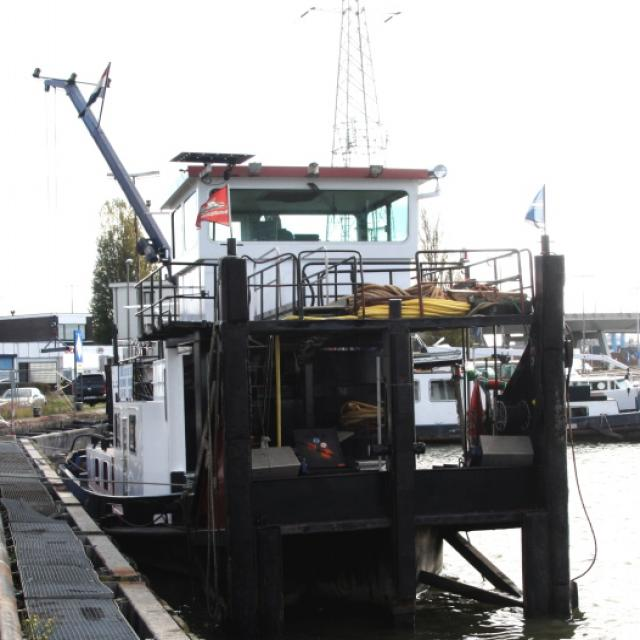tugboat: (30, 63, 588, 640)
